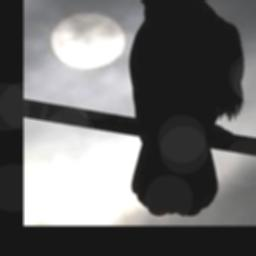Crow: (103, 0, 244, 217)
